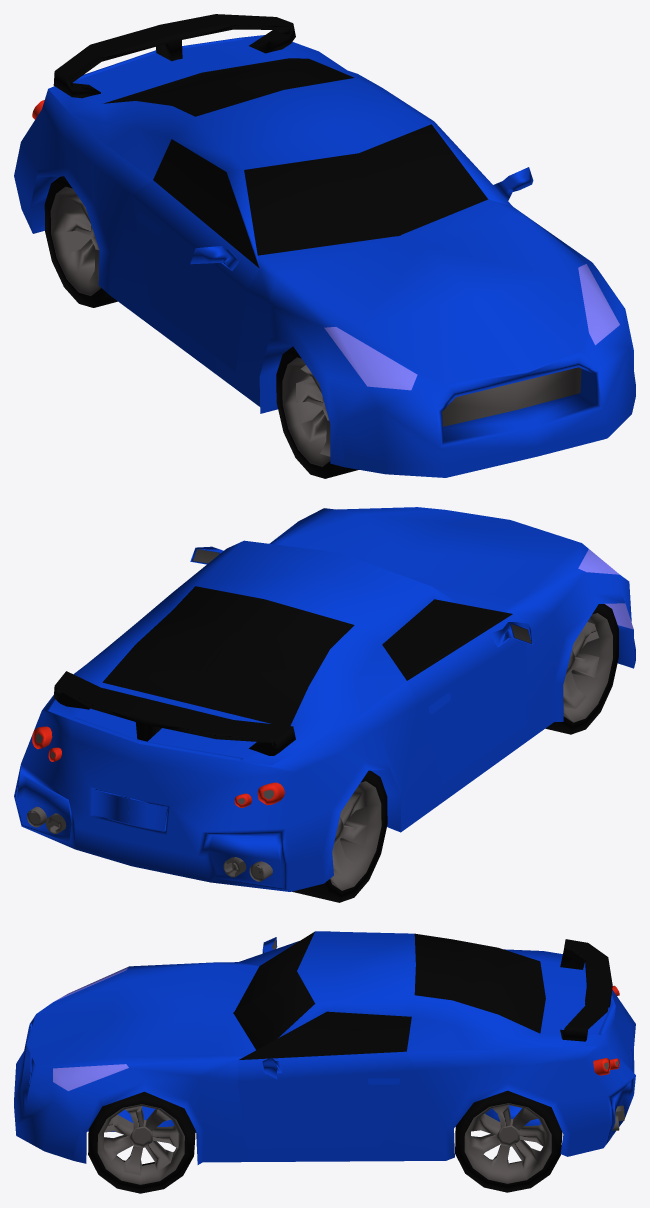
File: Vehicle3.fbx
3 renders of one model, top to bottom at view 1: azimuth 30°, elevation 25°; view 2: azimuth 150°, elevation 25°; view 3: azimuth 270°, elevation 25°, orthographic. The views are drawn at different scales.
Visible parts, largest first — view 1: Vert, RBottomTire, RTopTire; view 2: Vert, RBottomTire, RTopTire; view 3: Vert, LTopTire, LBottomTire.
Boxes of the visible parts, box(x1,y1,x2,y2) form: Vert: box(14, 14, 635, 477); RBottomTire: box(44, 176, 117, 307); RTopTire: box(276, 346, 358, 478); Vert: box(14, 507, 635, 891); RBottomTire: box(292, 770, 387, 902); RTopTire: box(545, 604, 618, 734); Vert: box(14, 931, 635, 1164); LTopTire: box(88, 1091, 195, 1193); LBottomTire: box(455, 1090, 562, 1192).
Bounding box in the file's own units: 238 × 147 × 472.
